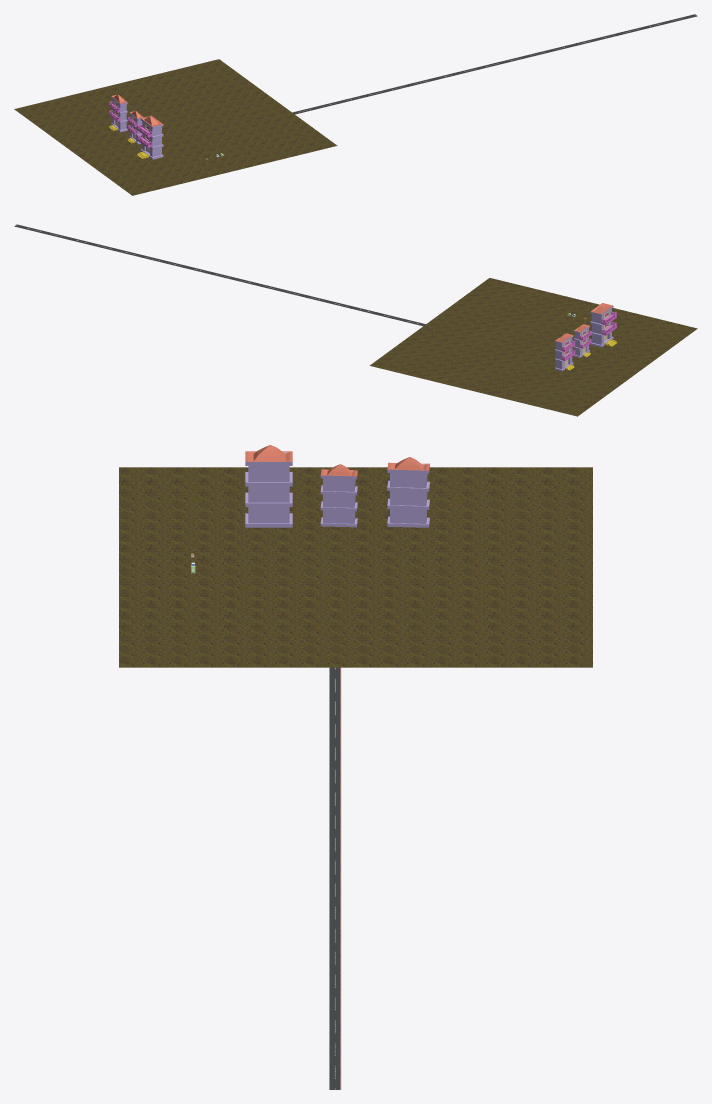
Rendered from city.glb.
3 renders of one model, top to bottom at view 1: azimuth 30°, elevation 25°; view 2: azimuth 150°, elevation 25°; view 3: azimuth 270°, elevation 25°, orthographic. The views are drawn at different scales.
Visible parts, largest first — view 1: 平面, 道路, 建筑1, 建筑1.002, 建筑1.001; view 2: 平面, 道路, 建筑1, 建筑1.002, 建筑1.001; view 3: 平面, 道路, 建筑1, 建筑1.002, 建筑1.001.
Boxes of the visible parts, x1,y1,x2,y2 form: 平面: (14,59,337,195); 道路: (292,14,697,114); 建筑1: (137,115,163,159); 建筑1.002: (109,94,127,132); 建筑1.001: (127,111,143,144); 平面: (369,278,697,416); 道路: (14,224,425,326); 建筑1: (590,303,617,347); 建筑1.002: (555,333,575,371); 建筑1.001: (573,324,591,357); 平面: (119,467,592,667); 道路: (329,667,341,1089); 建筑1: (245,445,292,527); 建筑1.002: (387,457,429,527); 建筑1.001: (320,464,357,527).
Size of the model in its own units: 1807 by 134 by 600.
Materials: 30 (2 with a texture image).
